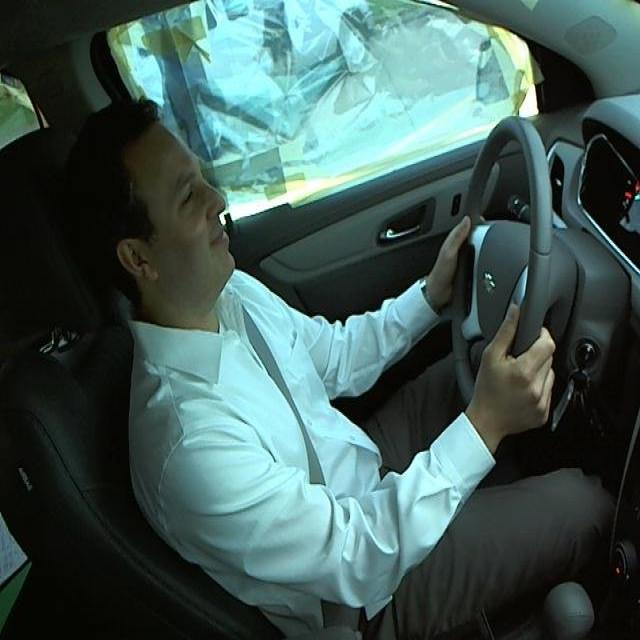without_using_phone: (28, 60, 278, 395)
